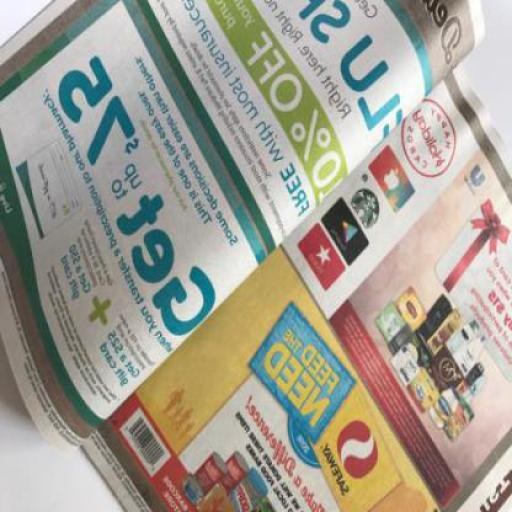paper: (1, 0, 512, 511), (1, 0, 486, 452), (82, 64, 510, 511)
